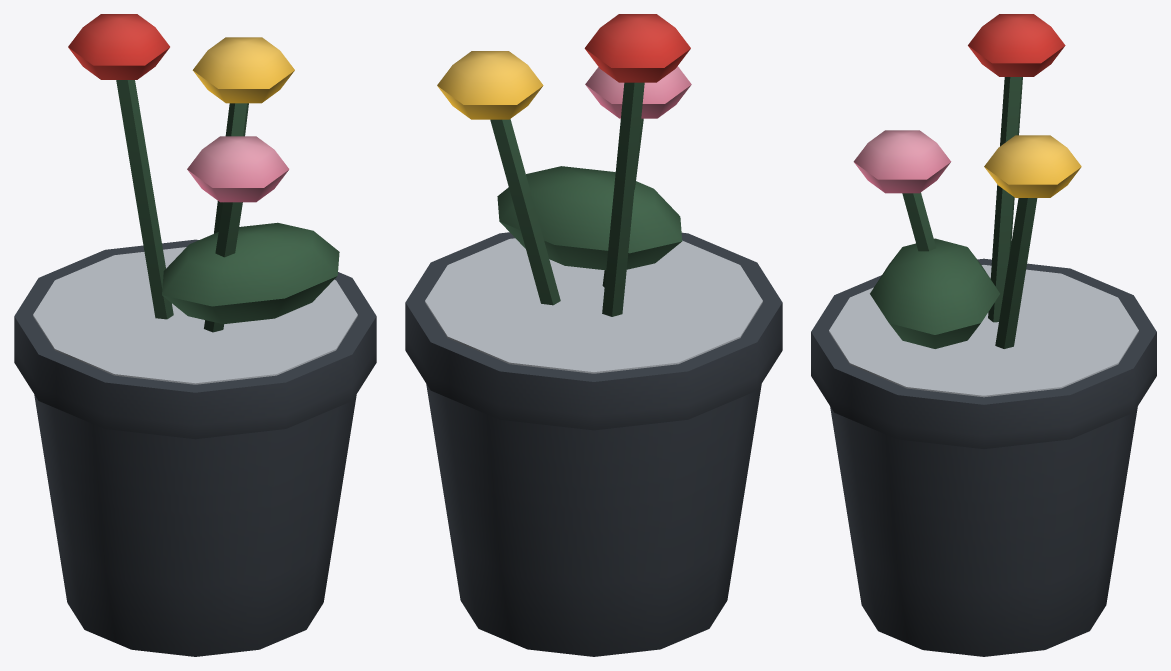
Rendered from ck_flower_pot.fbx.
3 views of the same model, side by side, from view 1: azimuth 30°, elevation 25°; view 2: azimuth 150°, elevation 25°; view 3: azimuth 270°, elevation 25° (orthographic). The views are drawn at different scales.
Visible parts, largest first — view 1: ck_flower_pot; view 2: ck_flower_pot; view 3: ck_flower_pot.
Boxes of the visible parts, x1,y1,x2,y2 form: ck_flower_pot: (14, 14, 376, 656); ck_flower_pot: (405, 14, 782, 656); ck_flower_pot: (811, 14, 1156, 656).
Size of the model in its own units: 67.3 by 120 by 67.3.
